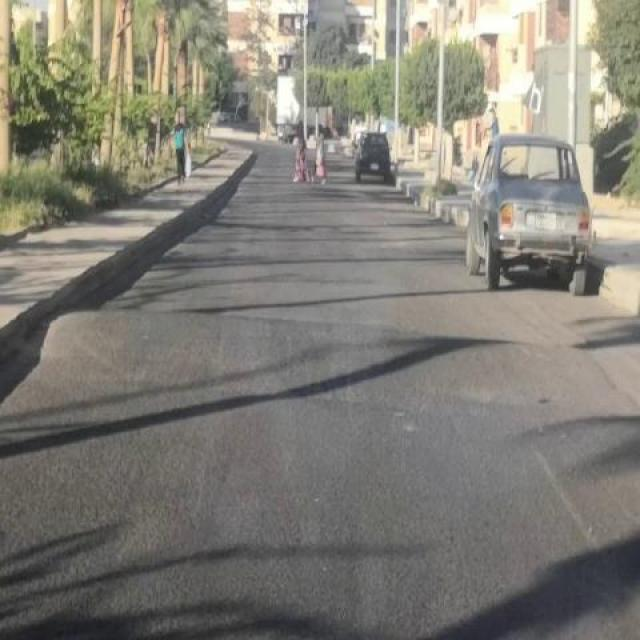Unmarked Bump: (10, 306, 617, 406)
